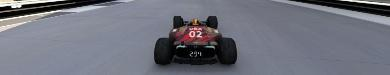Car: (153, 15, 237, 65)
obstacles-Borders: (0, 0, 118, 20)
